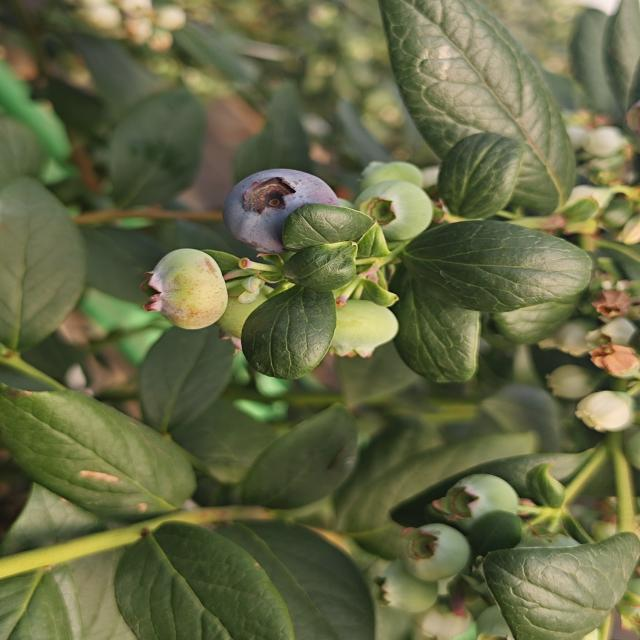ripe: (220, 166, 342, 256)
